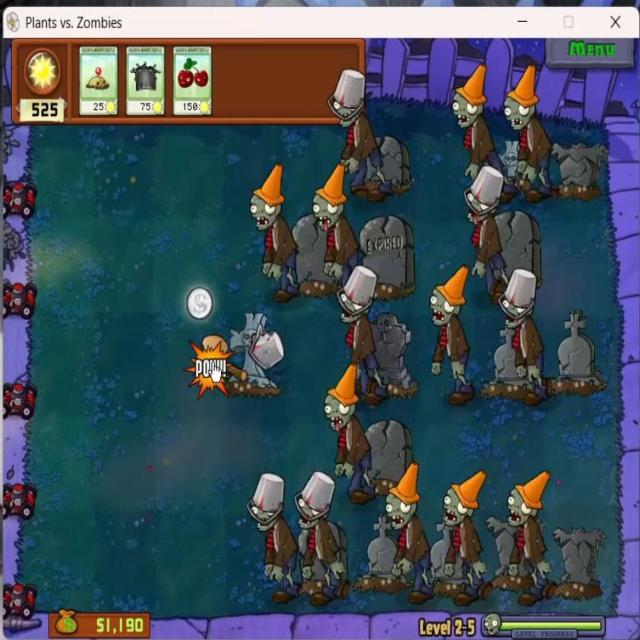coins: (185, 280, 216, 328)
zombies: (420, 266, 482, 414), (320, 362, 381, 508), (497, 68, 559, 204), (289, 460, 343, 610), (378, 466, 438, 598), (333, 68, 391, 203), (245, 163, 299, 298), (448, 61, 505, 188), (504, 457, 550, 613), (459, 165, 512, 298), (339, 269, 390, 407), (244, 471, 298, 598), (498, 270, 546, 411), (442, 463, 487, 606), (313, 168, 355, 302)
